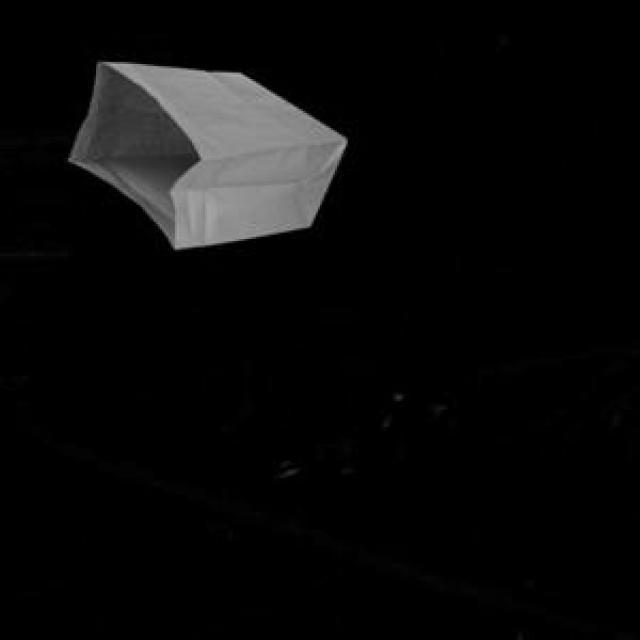paper: (66, 58, 341, 245)
